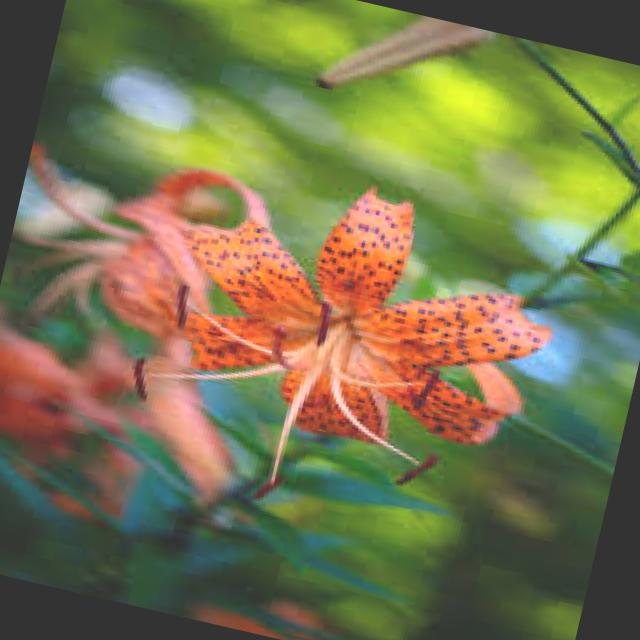lily: (59, 125, 580, 572)
